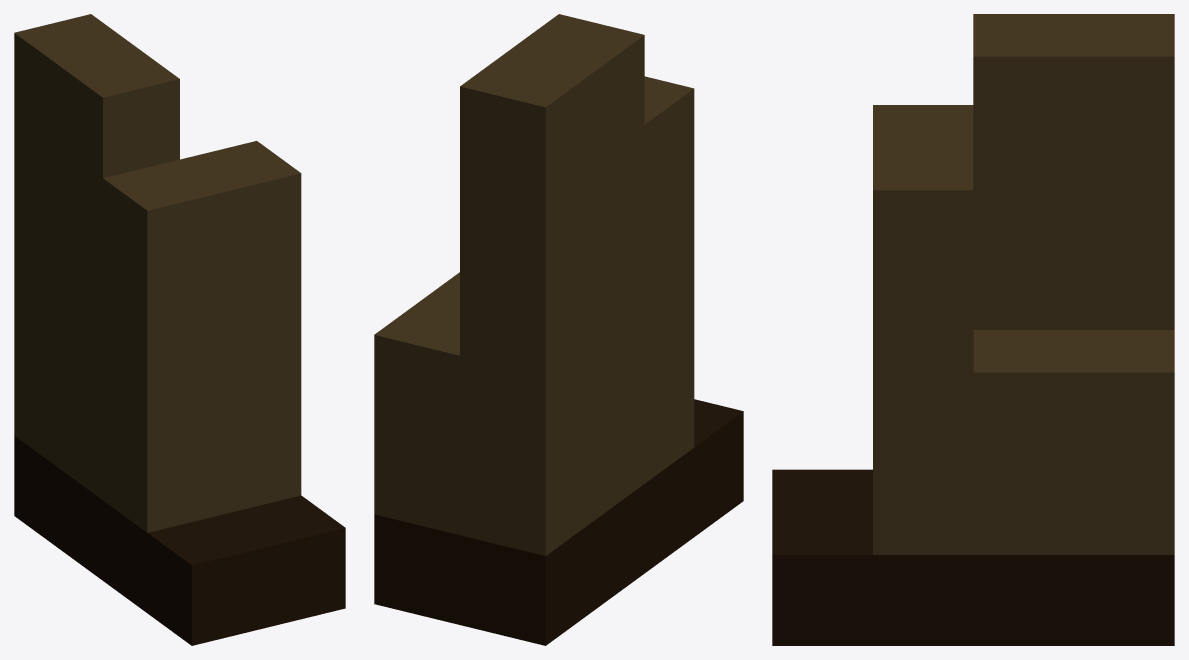
The model's file is Bear_fronlegL.fbx.
3 views of the same model, side by side, from view 1: azimuth 30°, elevation 25°; view 2: azimuth 150°, elevation 25°; view 3: azimuth 270°, elevation 25° (orthographic). The views are drawn at different scales.
Parts seen in each view (by area): view 1: FLegL; view 2: FLegL; view 3: FLegL.
Part boxes in pixels (left/top/right/bottom): FLegL: left=14, top=14, right=345, bottom=645; FLegL: left=374, top=14, right=743, bottom=645; FLegL: left=772, top=14, right=1174, bottom=645.
Bounding box in the file's own units: 20 × 60 × 40.
